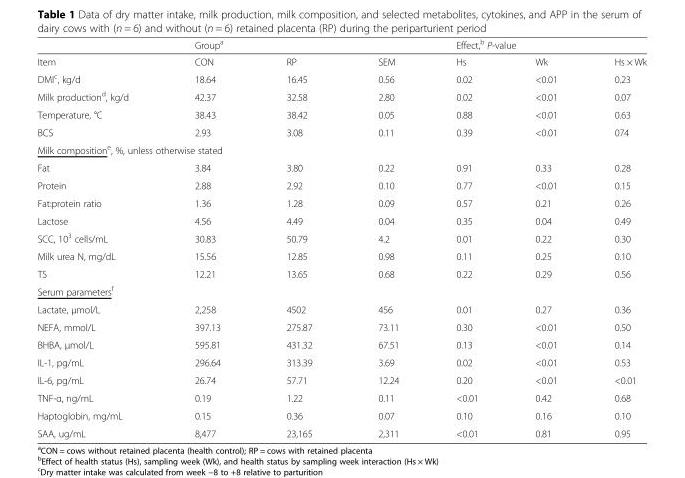table: (36, 37, 646, 438)
table column: (36, 37, 161, 438), (252, 37, 344, 438), (161, 37, 252, 438), (344, 37, 426, 438), (426, 37, 506, 438), (506, 37, 585, 438), (585, 37, 646, 438)
table column header: (36, 37, 646, 69)
table projected row header: (36, 140, 646, 158), (36, 281, 646, 299)
table row: (36, 228, 646, 247), (36, 69, 646, 87), (36, 87, 646, 105), (36, 105, 646, 123), (36, 140, 646, 158), (36, 158, 646, 176), (36, 176, 646, 194), (36, 281, 646, 299), (36, 299, 646, 317), (36, 317, 646, 335), (36, 335, 646, 353), (36, 353, 646, 371), (36, 388, 646, 406), (36, 406, 646, 424), (36, 52, 646, 69), (36, 123, 646, 140), (36, 194, 646, 211), (36, 211, 646, 228), (36, 247, 646, 264), (36, 264, 646, 281), (36, 371, 646, 388), (36, 37, 646, 52), (36, 424, 646, 438)
table spanning cell: (36, 37, 161, 69), (426, 37, 646, 52), (161, 37, 344, 52), (344, 37, 426, 69)
